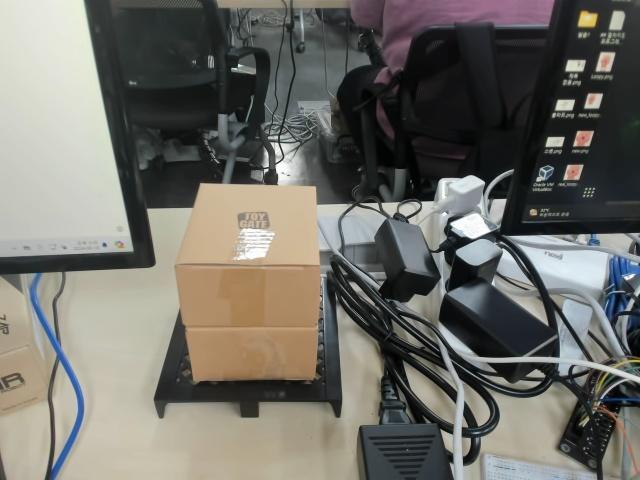box: (154, 182, 343, 419)
